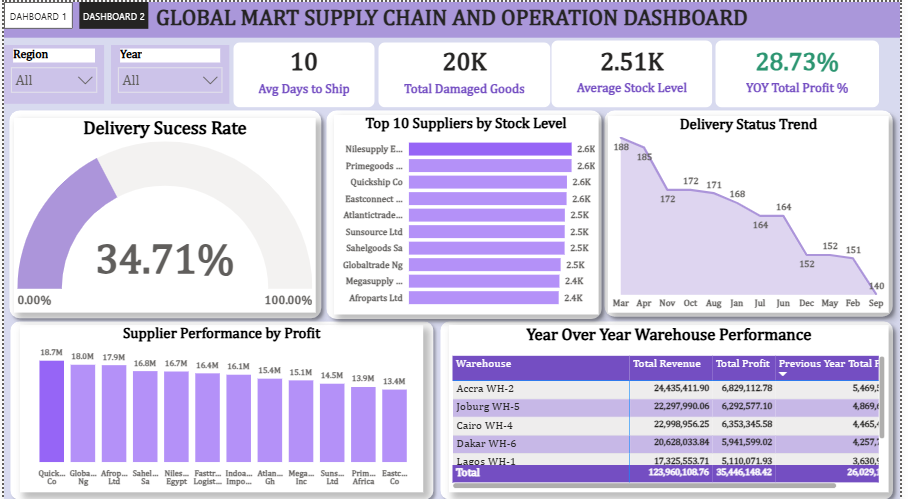

What the dashboard file says about the page in this screenshot:
{"tool":"powerbi","page":{"name":"DASHBOARD 2","canvas":[1280,720],"ordinal":1},"visuals":[{"type":"textbox","box":[0,0,1280,51.4],"z":0},{"type":"shape","box":[848.6,145.7,430,312.8],"z":0,"group":"g1"},{"type":"shape","box":[-1.2,146.2,463.8,315],"z":0,"group":"g2"},{"type":"shape","box":[451.2,146.2,411.2,316.2],"z":0,"group":"g5"},{"type":"shape","box":[614.9,446.8,664.6,272.5],"z":0,"group":"g4"},{"type":"shape","box":[-0.7,447.3,622.3,272.8],"z":0,"group":"g3"},{"type":"cardVisual","fields":{"Data":["Metrics.Avg Days to Ship"]},"box":[298.6,28.6,260,151.4],"z":1000},{"type":"cardVisual","fields":{"Data":["Metrics.Damaged Goods"]},"box":[505.7,28.6,304.3,151.4],"z":2000},{"type":"cardVisual","fields":{"Data":["Metrics.Total Suppliers"]},"box":[987.1,25.7,292.9,154.3],"z":3000},{"type":"cardVisual","fields":{"Data":["Metrics.Average Stock Level"]},"box":[752.9,25.7,288.6,154.3],"z":4000},{"type":"group","id":"g1","title":"Group 1","box":[848.6,145.7,430,312.9],"z":5000},{"type":"group","id":"g2","title":"Group 1","box":[-1.2,146.2,463.8,315],"z":6000},{"type":"group","id":"g3","title":"Group 1","box":[-0.7,447.3,622.3,272.8],"z":7000},{"type":"columnChart","title":"Supplier Performance by Profit","fields":{"Category":["Fact Table.Supplier"],"Y":["Metrics.Total Profit"]},"box":[22.8,461.8,575.9,238.8],"z":8000},{"type":"group","id":"g4","title":"Group 1","box":[614.9,446.8,663.6,272.8],"z":9000},{"type":"group","id":"g5","title":"Group 1","box":[0,0,862.5,462.5],"z":10000},{"type":"barChart","title":"Top 10 Suppliers by Stock Level","fields":{"Y":["Metrics.Average Stock Level"],"Category":["Fact Table.Supplier"]},"box":[471.2,161.2,377.5,285],"z":11000},{"type":"pivotTable","title":"Year Over Year  Warehouse Performance","fields":{"Rows":["Fact Table.Warehouse"],"Values":["Metrics.Total Revenue","Metrics.Total Profit","Metrics.Previous Year Total Profit"]},"box":[635.6,461.6,628.2,238.9],"z":12000},{"type":"lineChart","title":"Delivery  Status Trend","fields":{"Category":["Order Date T.Month Name Short"],"Y":["Metrics.Total Delivery"]},"box":[862.9,162.9,401.4,281.4],"z":13000},{"type":"gauge","fields":{"Y":["Metrics.Delivery Sucess Rate"]},"box":[13.8,166.2,431.2,277.5],"z":14000},{"type":"pageNavigator","box":[0,0,207.9,38.3],"z":14003,"group":"g5"},{"type":"slicer","fields":{"Values":["Fact Table.Region"]},"box":[0,61.4,142.9,84.3],"z":15000},{"type":"slicer","fields":{"Values":["Order Date T.Year"]},"box":[152.9,61.4,168.6,84.3],"z":16000}]}

Visuals, with their boxes in screenshot pixels (x1, y1, x2, y2), scaled from the page's 1280x720 canvas onto the 908x499 screenshot:
textbox: [0, 0, 907, 36]
shape: [602, 101, 907, 318]
shape: [0, 101, 328, 320]
shape: [320, 101, 612, 320]
shape: [436, 310, 907, 498]
shape: [0, 310, 441, 498]
cardVisual - Metrics.Avg Days to Ship: [212, 20, 396, 125]
cardVisual - Metrics.Damaged Goods: [359, 20, 575, 125]
cardVisual - Metrics.Total Suppliers: [700, 18, 907, 125]
cardVisual - Metrics.Average Stock Level: [534, 18, 739, 125]
"Group 1" group: [602, 101, 907, 318]
"Group 1" group: [0, 101, 328, 320]
"Group 1" group: [0, 310, 441, 498]
"Supplier Performance by Profit" columnChart: [16, 320, 425, 486]
"Group 1" group: [436, 310, 907, 498]
"Group 1" group: [0, 0, 612, 321]
"Top 10 Suppliers by Stock Level" barChart: [334, 112, 602, 309]
"Year Over Year  Warehouse Performance" pivotTable: [451, 320, 897, 485]
"Delivery  Status Trend" lineChart: [612, 113, 897, 308]
gauge - Metrics.Delivery Sucess Rate: [10, 115, 316, 308]
pageNavigator: [0, 0, 147, 27]
slicer - Fact Table.Region: [0, 43, 101, 101]
slicer - Order Date T.Year: [108, 43, 228, 101]
